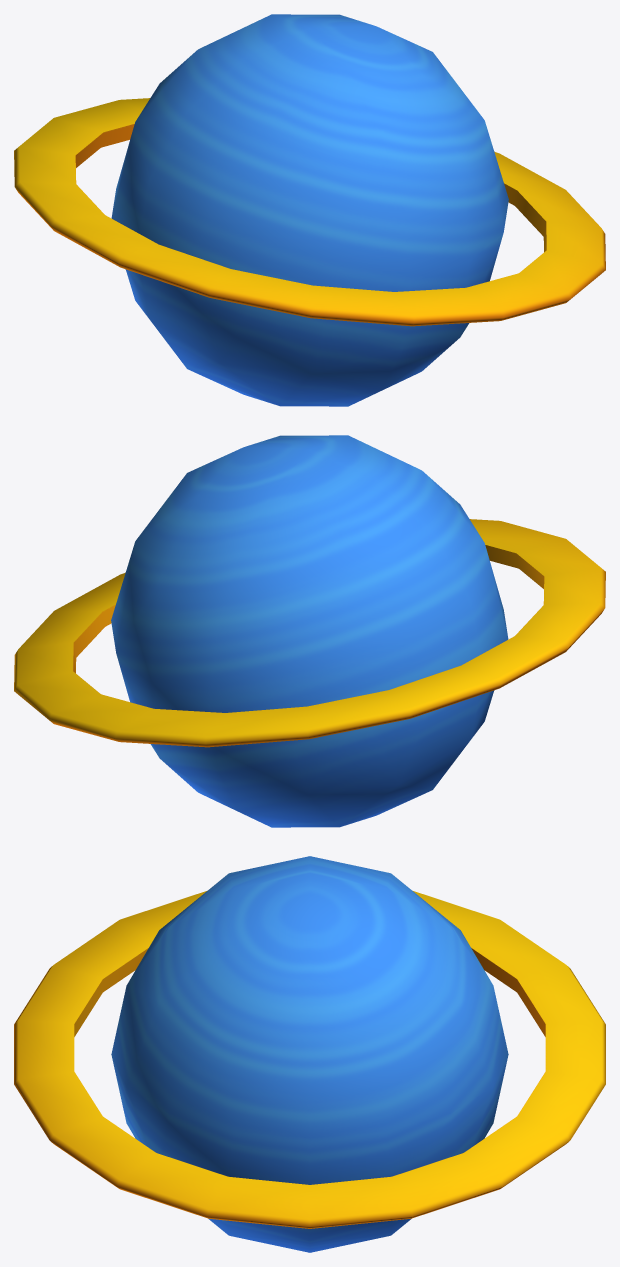
The model's file is Planet.FBX.
3 views of the same model, one above another, from view 1: azimuth 30°, elevation 25°; view 2: azimuth 150°, elevation 25°; view 3: azimuth 270°, elevation 25° (orthographic).
Visible parts, largest first — view 1: Planet; view 2: Planet; view 3: Planet.
Part boxes in pixels (x1,y1,x2,y2): Planet: (14, 14, 605, 406); Planet: (14, 435, 605, 827); Planet: (14, 856, 605, 1252).
Size of the model in its own units: 95.98 by 64.39 by 95.98.
